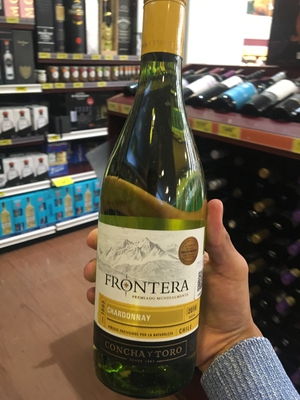frontera chardonnay: (90, 12, 220, 389)
